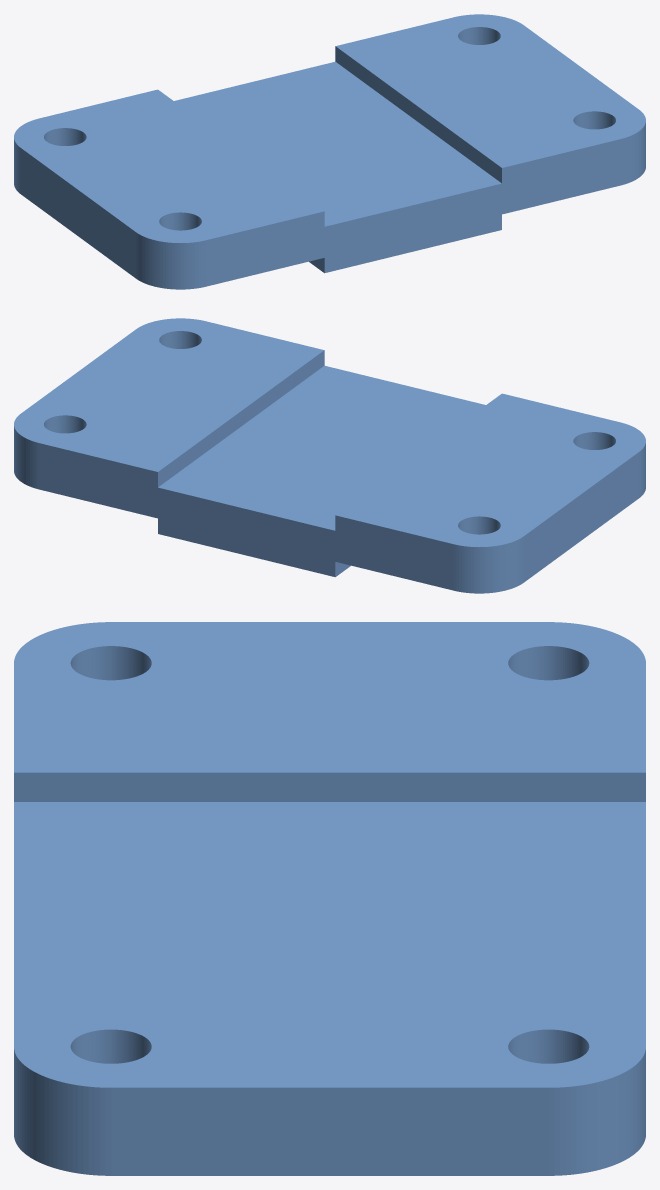
File: BASE PLATE.glb
3 renders of one model, top to bottom at view 1: azimuth 30°, elevation 25°; view 2: azimuth 150°, elevation 25°; view 3: azimuth 270°, elevation 25°, orthographic. The views are drawn at different scales.
Visible parts, largest first — view 1: BASE_PLATE; view 2: BASE_PLATE; view 3: BASE_PLATE.
Part boxes in pixels (x1,y1,x2,y2): BASE_PLATE: (14,14,645,289); BASE_PLATE: (14,318,645,593); BASE_PLATE: (14,622,645,1175).
Size of the model in its own units: 136 by 16 by 78.
